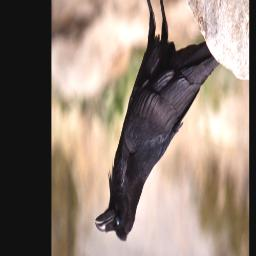Crow: (94, 0, 221, 250)
